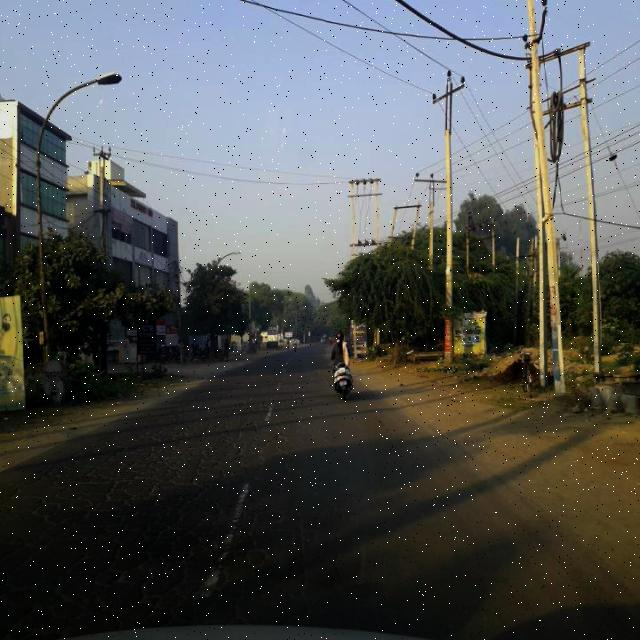D20: (1, 388, 285, 626)
D44: (202, 477, 252, 603)
